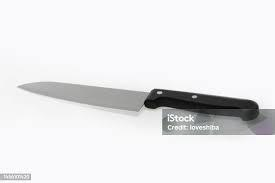Knife: (16, 80, 259, 121)
